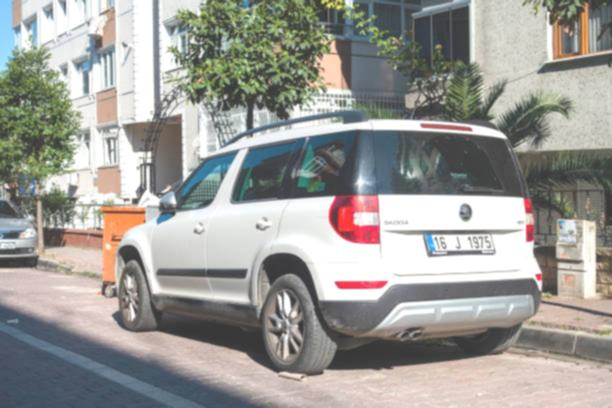skoda: (452, 201, 479, 227)
